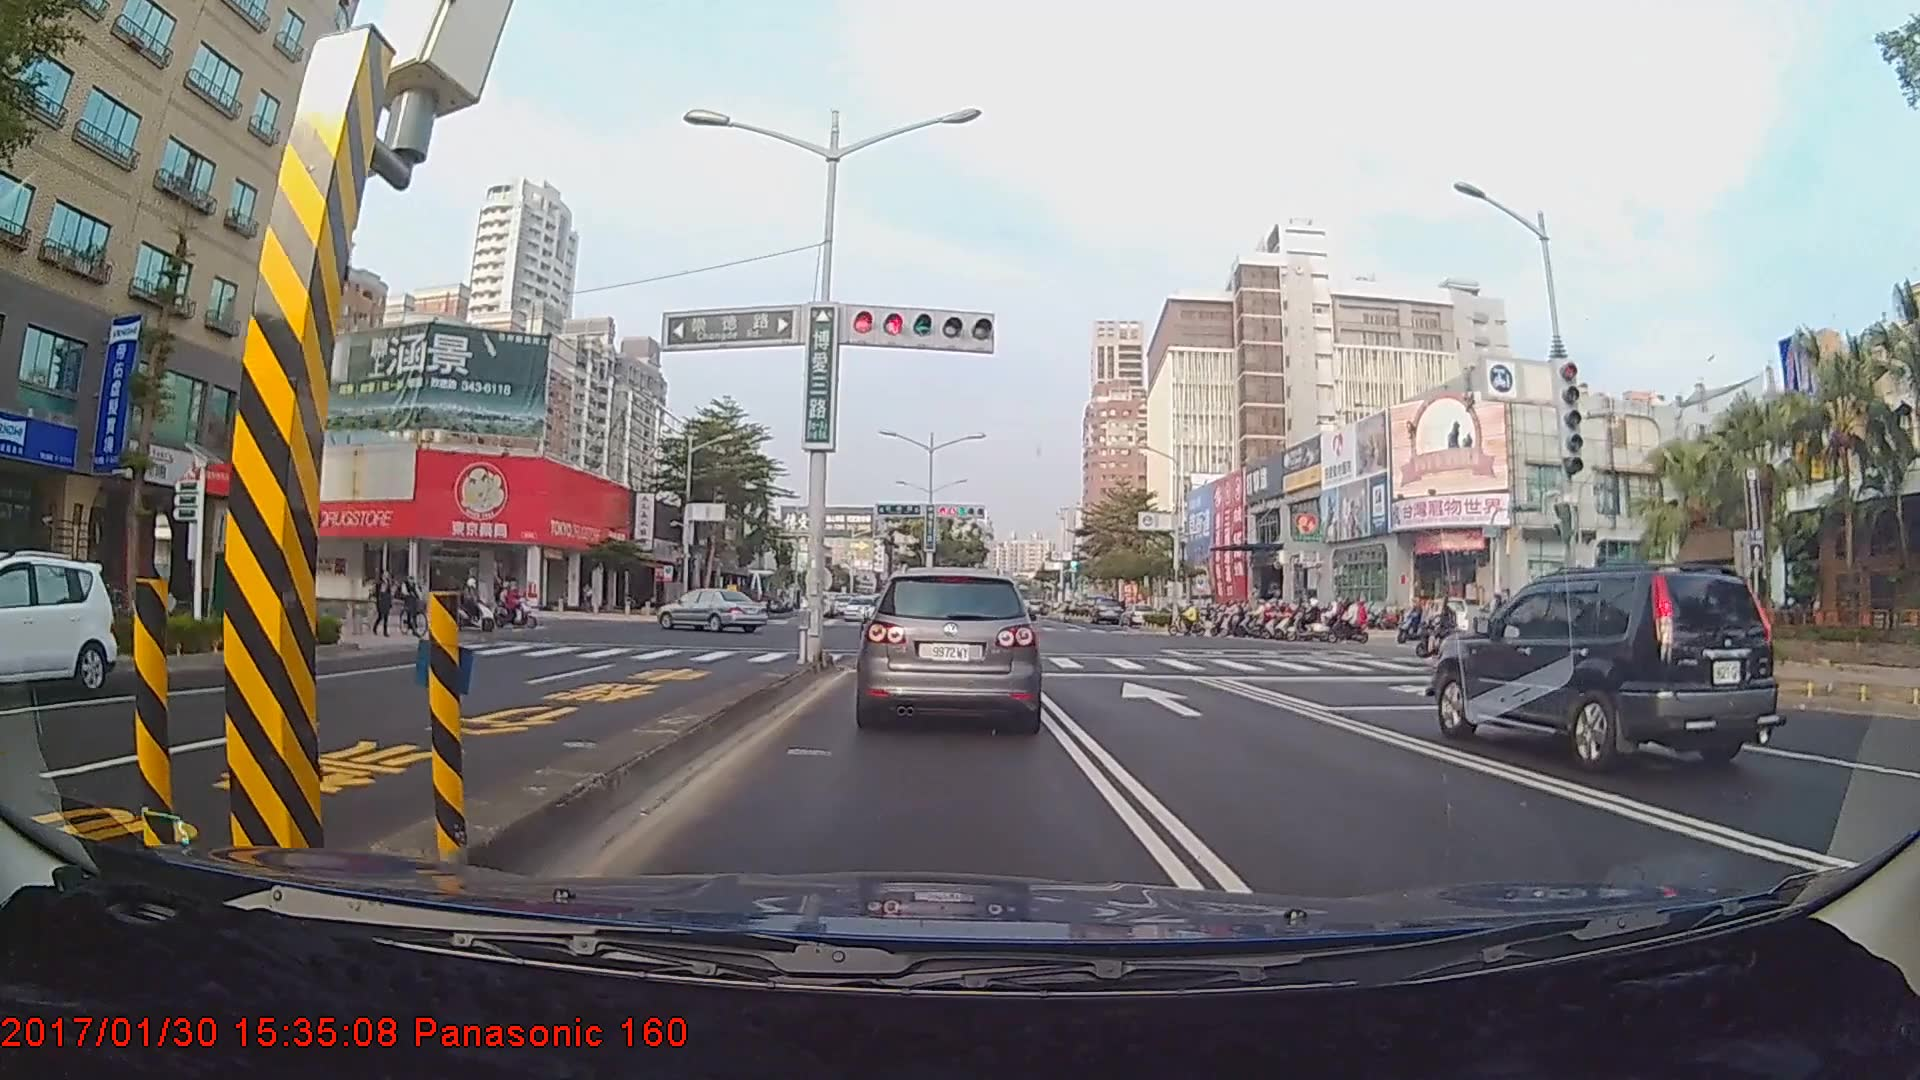pedestrian: (372, 566, 396, 641)
rider: (1418, 600, 1474, 660), (399, 566, 438, 636), (1327, 594, 1375, 645), (494, 576, 538, 629), (1302, 601, 1349, 641), (1172, 601, 1207, 637)
vehicle: (1428, 567, 1785, 777), (862, 569, 1043, 728), (0, 557, 110, 705), (656, 585, 773, 634), (1092, 598, 1123, 625)
